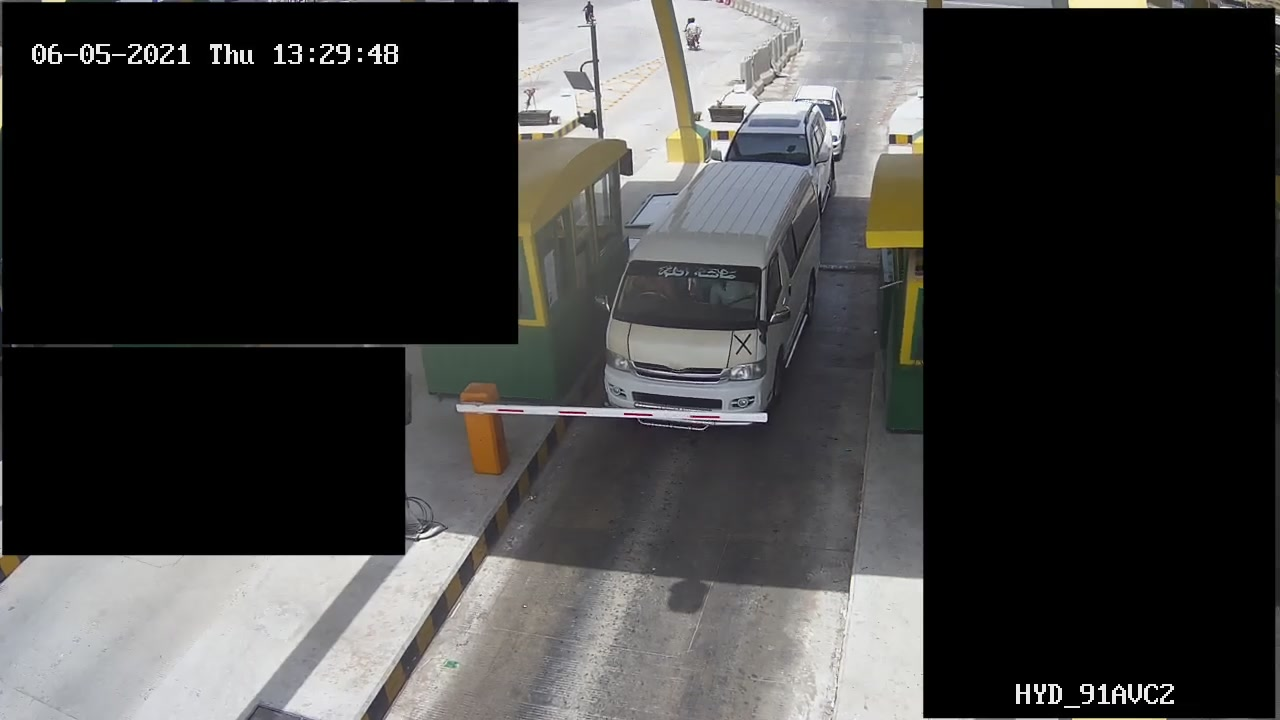F2: (598, 161, 845, 457)
